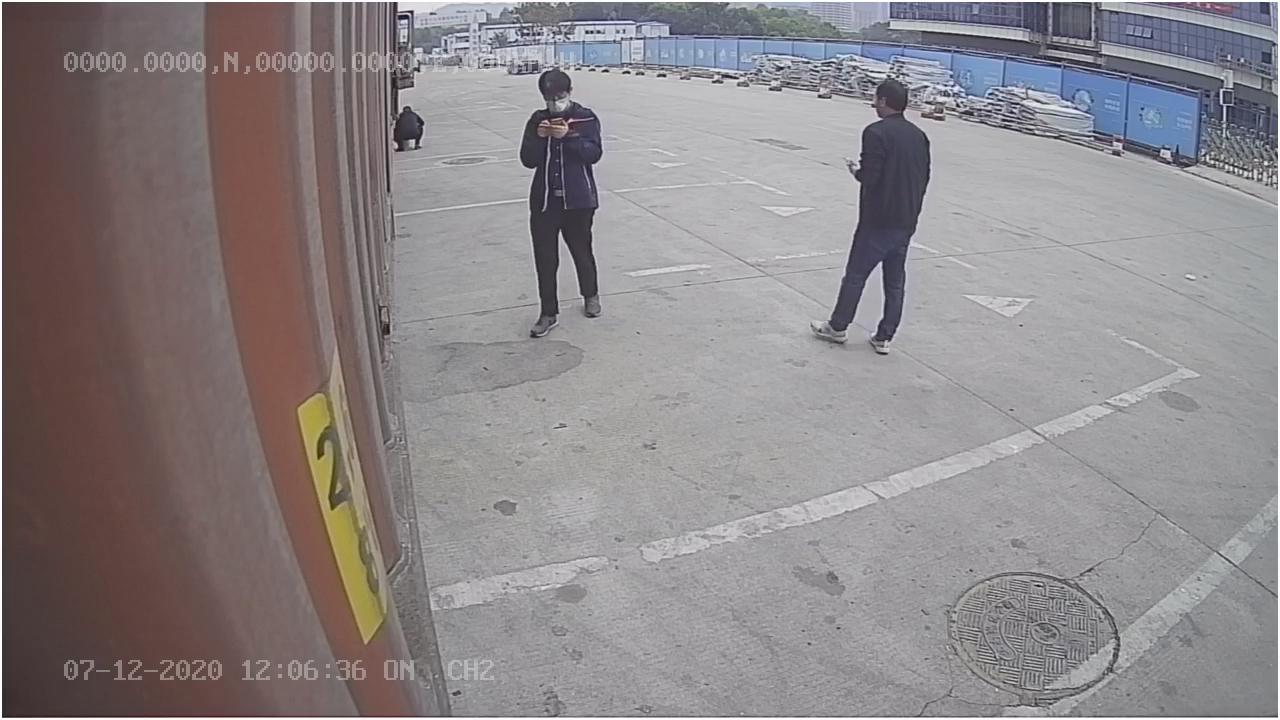person: (808, 75, 936, 351), (517, 67, 609, 337)
